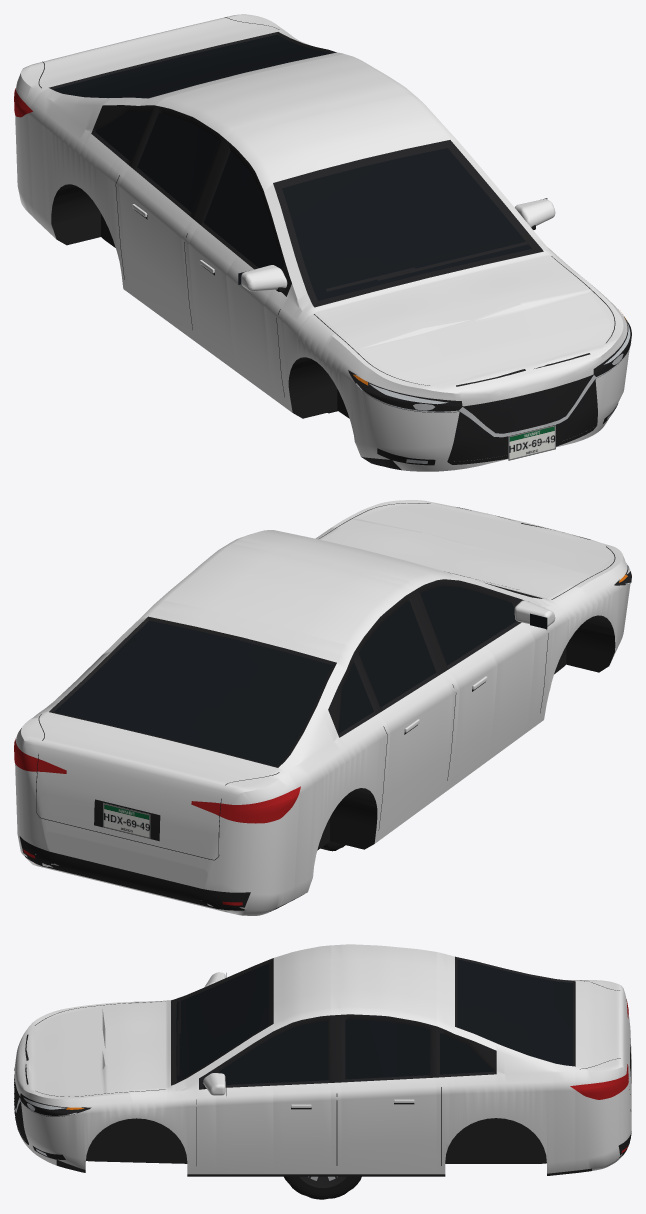
The model's file is nissan-versa.glb.
The picture shows the model from 3 angles, top to bottom: view 1: azimuth 30°, elevation 25°; view 2: azimuth 150°, elevation 25°; view 3: azimuth 270°, elevation 25°; orthographic projection. The views are drawn at different scales.
Parts seen in each view (by area): view 1: body; view 2: body; view 3: body, wheel.
Boxes of the visible parts, bbox=[...] form: body: bbox=[14, 14, 631, 471]; body: bbox=[14, 500, 631, 915]; body: bbox=[14, 944, 631, 1176]; wheel: bbox=[284, 1176, 361, 1199].
Size of the model in its own units: 1.98 by 1.78 by 4.5.
Materials: 1 (1 with a texture image).
